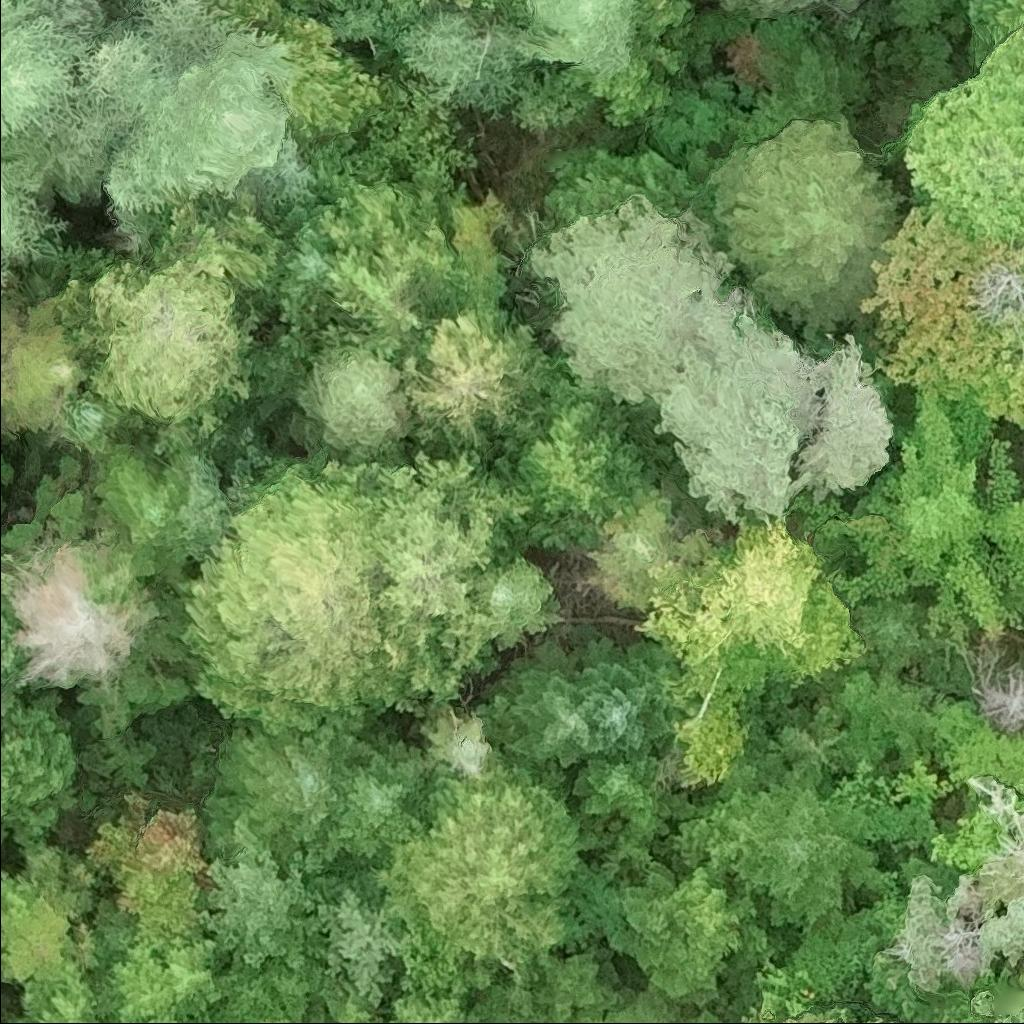crown: (629, 515, 866, 785), (176, 449, 386, 738), (812, 385, 1023, 650), (57, 201, 260, 443), (690, 117, 909, 341), (368, 764, 582, 987), (530, 193, 753, 406), (369, 447, 534, 717), (101, 25, 298, 219), (861, 205, 1023, 429), (649, 315, 822, 523), (487, 370, 655, 550), (312, 175, 466, 366), (903, 21, 1023, 246), (399, 299, 561, 462), (730, 769, 880, 929), (200, 722, 351, 860), (9, 535, 137, 692), (86, 791, 218, 940), (206, 813, 327, 968), (250, 9, 386, 145), (559, 625, 679, 778), (23, 929, 218, 1023), (584, 485, 723, 613), (392, 3, 540, 119), (794, 332, 893, 502), (478, 640, 598, 772), (0, 0, 93, 158), (0, 274, 90, 436), (297, 343, 413, 464), (325, 730, 430, 860), (0, 684, 81, 845), (92, 440, 187, 563), (516, 0, 638, 92), (0, 142, 69, 295), (570, 756, 699, 834), (599, 861, 682, 981), (256, 189, 339, 306), (121, 0, 242, 74), (47, 93, 130, 200), (75, 29, 164, 126), (473, 557, 566, 649), (848, 589, 948, 670), (530, 946, 630, 1023), (198, 194, 276, 290), (0, 895, 82, 985), (230, 129, 316, 212), (404, 701, 505, 771), (967, 623, 1023, 728), (56, 388, 123, 463), (0, 541, 27, 688), (718, 0, 820, 26), (974, 993, 1023, 1023), (770, 1011, 891, 1023), (840, 0, 876, 4)
